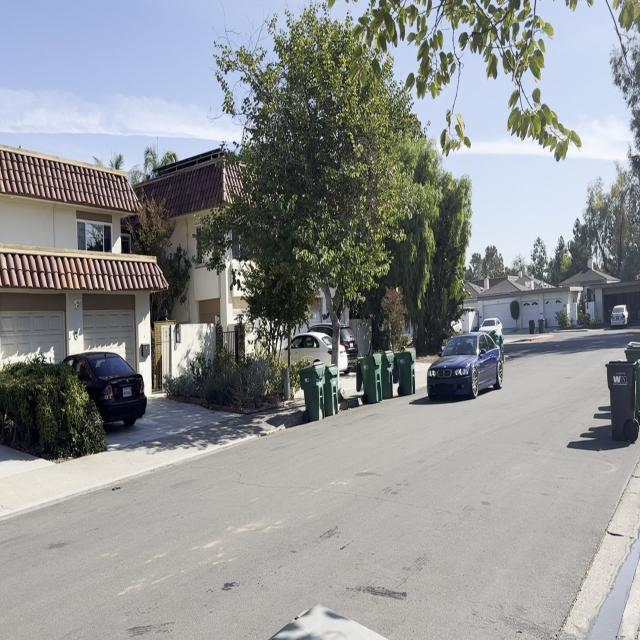Carbeetle: (425, 331, 504, 406)
Civilian: (37, 348, 154, 439), (273, 322, 359, 374), (478, 312, 503, 345), (608, 300, 632, 332)
